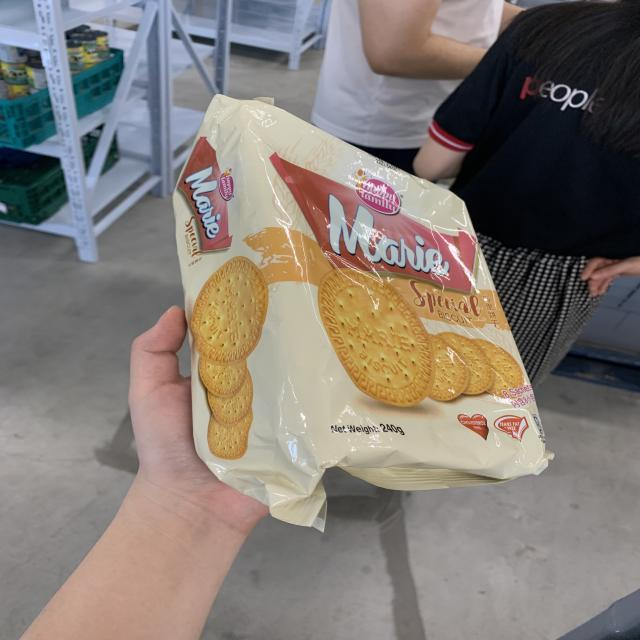object_name: (177, 111, 528, 490)
